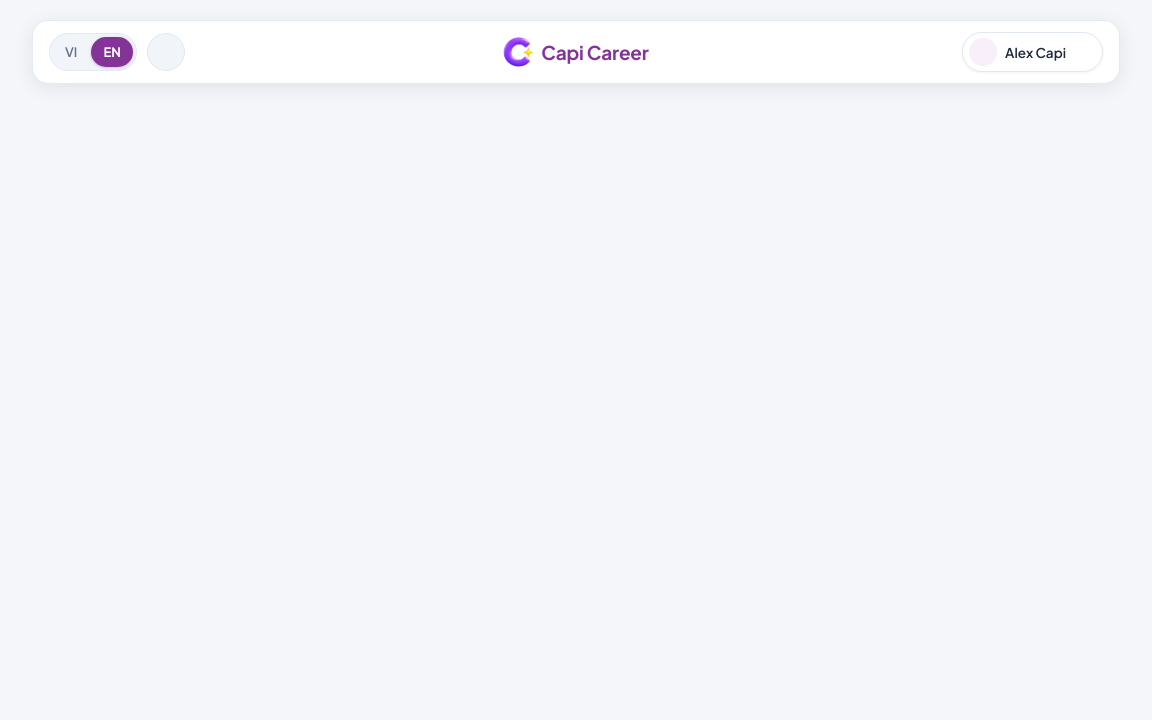
Test case: HeaderControls › closes dropdown menu when pressing Escape or clicking outside
Click the button "Alex Capi".
click(1033, 52)  # box [962,32,1103,72]
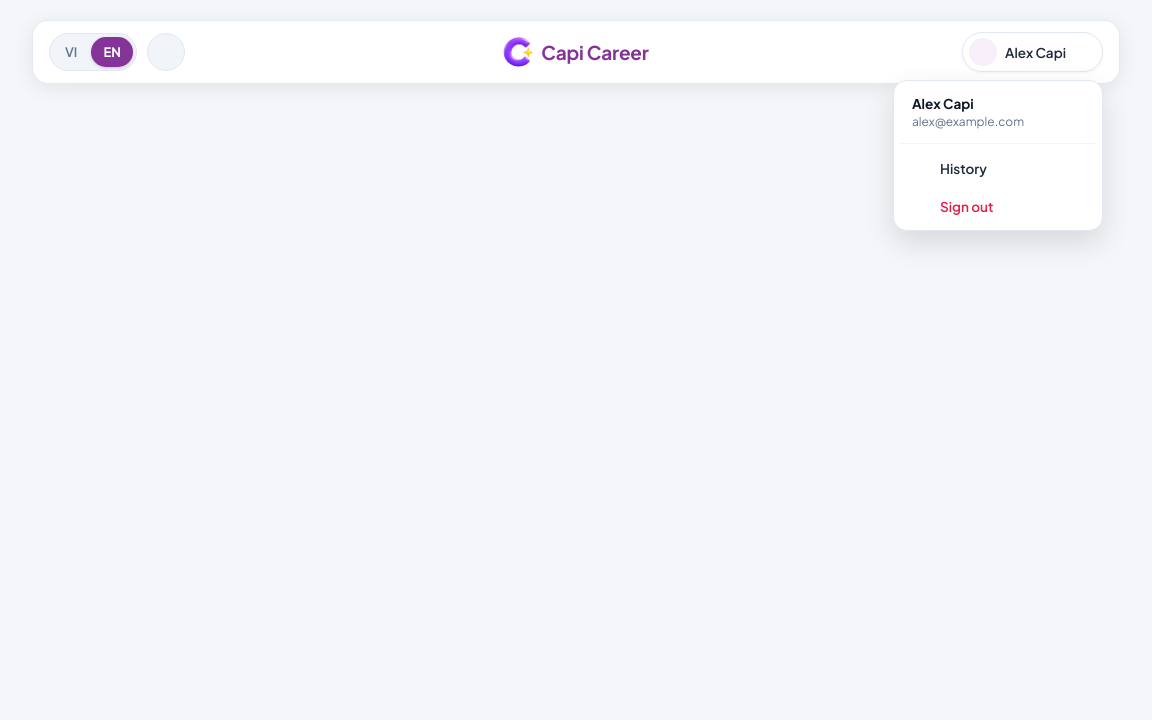
Now the menu is shown, box [893,80,1103,231]
// Press Escape
Press Escape
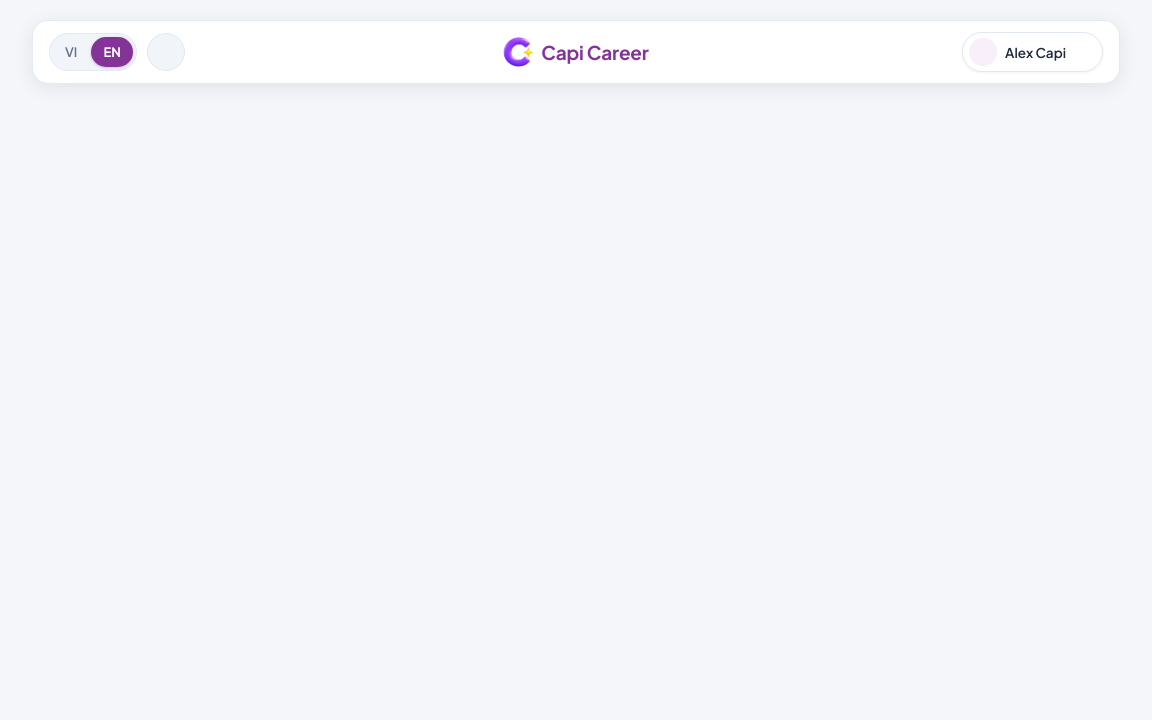
Now the menu is gone
// Reopen and click outside
Click the button "Alex Capi".
click(1033, 52)  # box [962,32,1103,72]
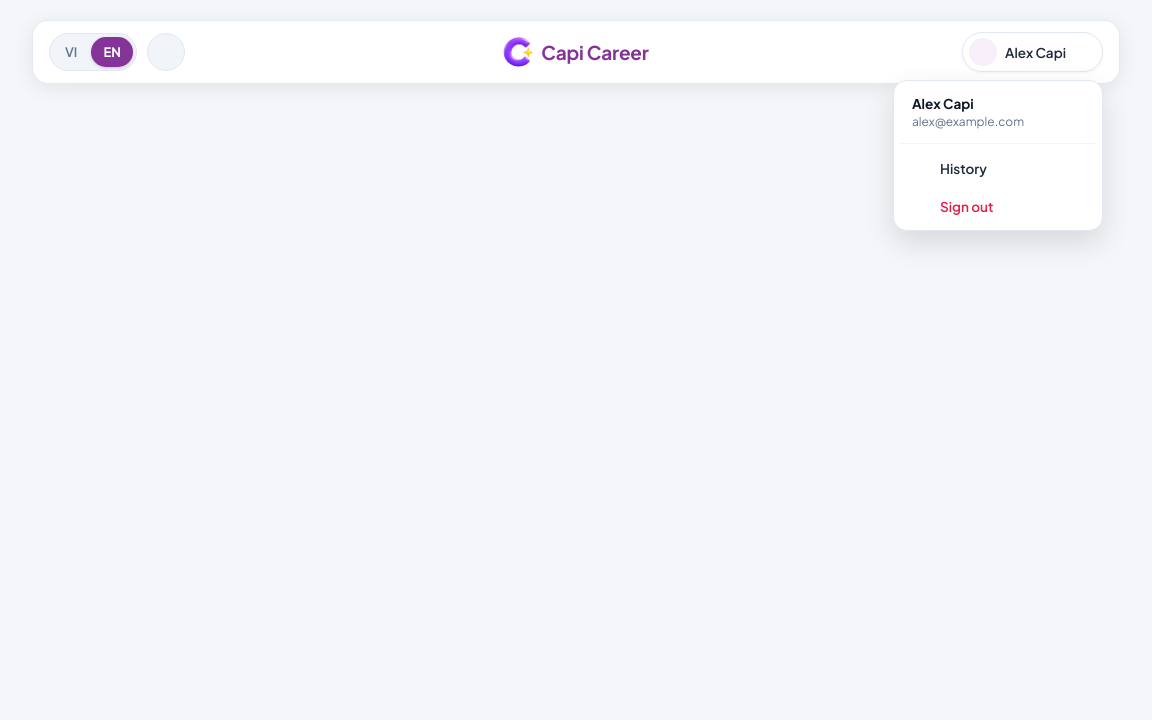
Now the menu is shown, box [893,80,1103,231]
Press the mouse on the element that starts with "Capi Career" at {"x": 576, "y": 360}, box [0,0,1151,719]
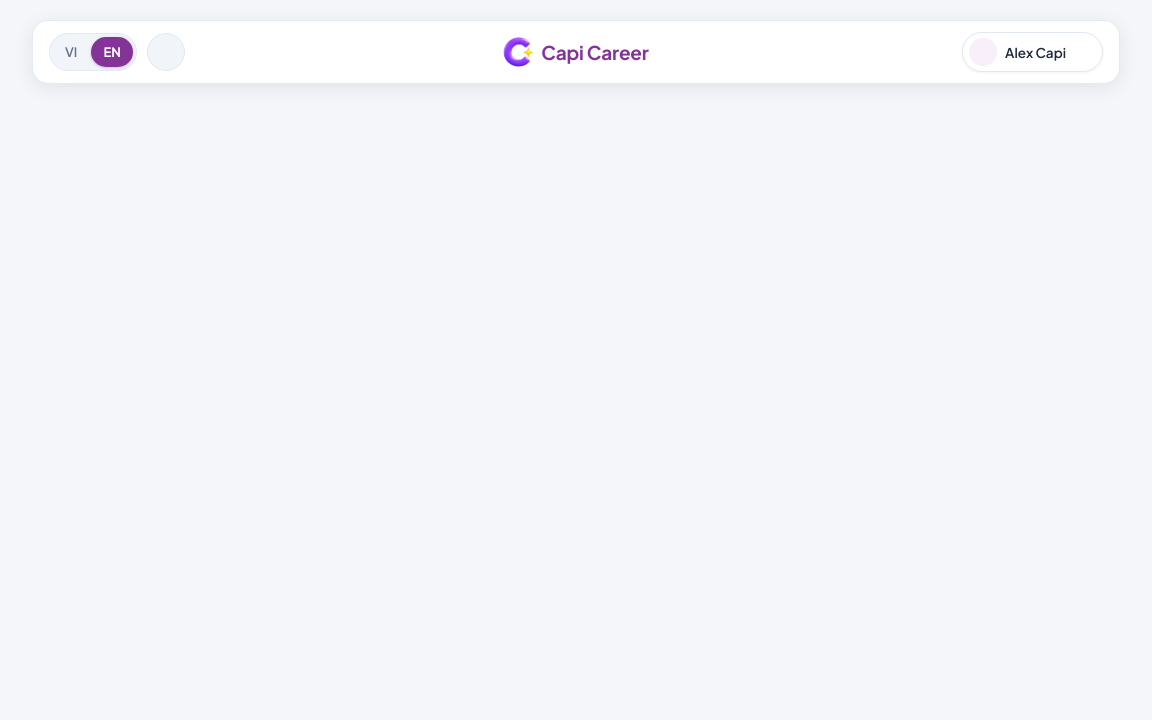
Now the menu is gone
